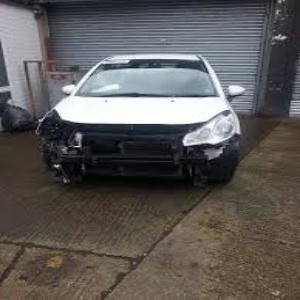bumper: (35, 141, 97, 187)
